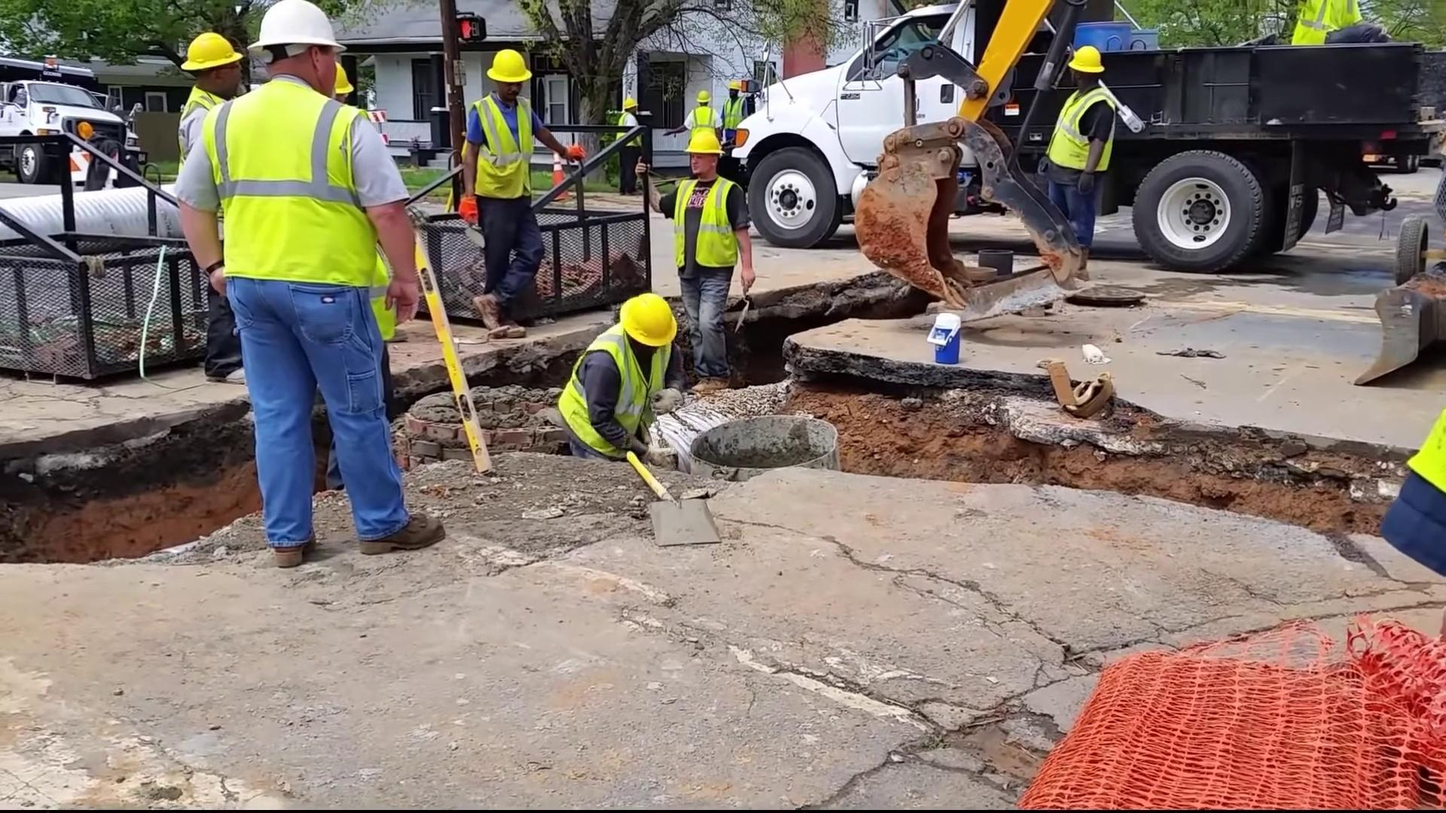apron: (451, 196, 481, 227), (1071, 167, 1101, 197), (560, 138, 589, 166)
